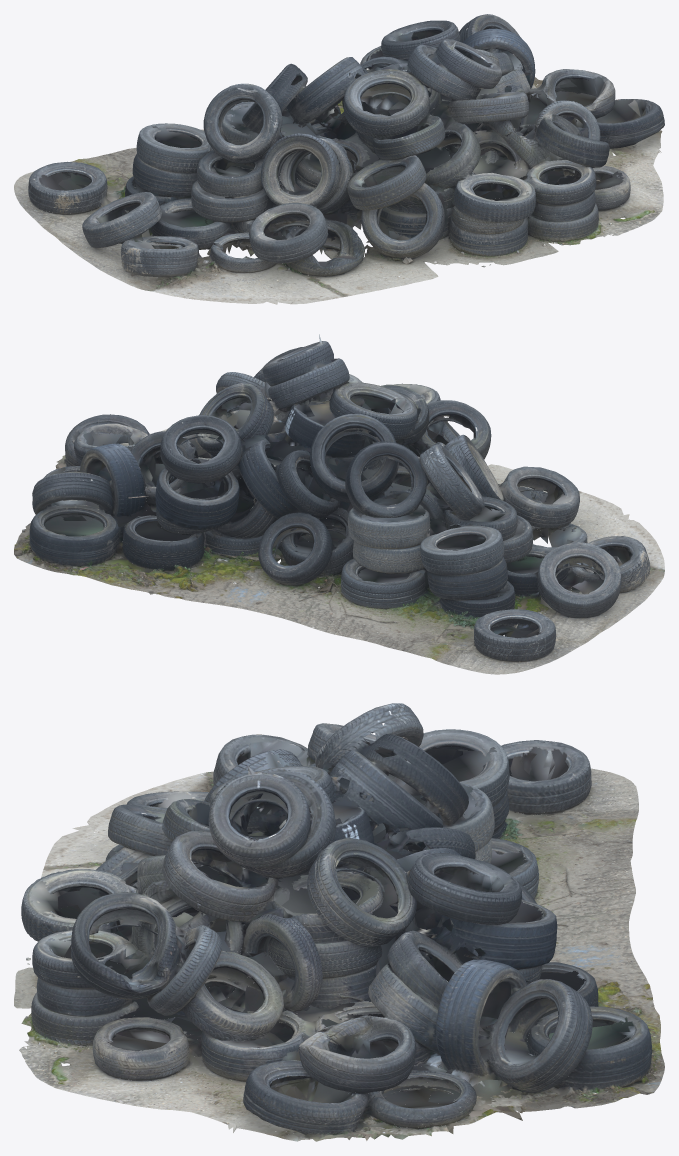
File: pile_of_old_tires.glb
The picture shows the model from 3 angles, top to bottom: view 1: azimuth 30°, elevation 25°; view 2: azimuth 150°, elevation 25°; view 3: azimuth 270°, elevation 25°; orthographic projection. The views are drawn at different scales.
Visible parts, largest first — view 1: tires2_tires2_u2_v2_0; view 2: tires2_tires2_u2_v2_0; view 3: tires2_tires2_u2_v2_0.
Boxes of the visible parts, x1,y1,x2,y2 form: tires2_tires2_u2_v2_0: [14, 14, 664, 304]; tires2_tires2_u2_v2_0: [14, 334, 664, 674]; tires2_tires2_u2_v2_0: [14, 703, 664, 1141].
Size of the model in its own units: 5.31 by 1.51 by 3.71.
4 materials, 4 textured.
